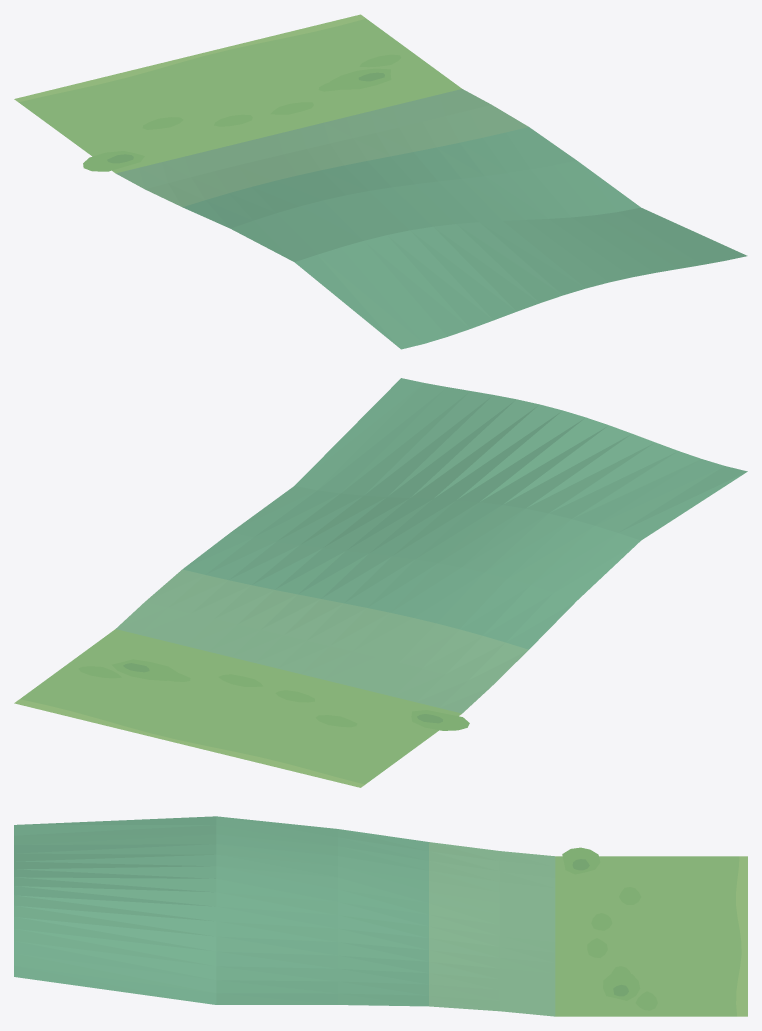
Rendered from Prairie_2.fbx.
3 renders of one model, top to bottom at view 1: azimuth 30°, elevation 25°; view 2: azimuth 150°, elevation 25°; view 3: azimuth 270°, elevation 25°, orthographic. The views are drawn at different scales.
Parts seen in each view (by area): view 1: Prairie_2; view 2: Prairie_2; view 3: Prairie_2.
Boxes of the visible parts, x1,y1,x2,y2 form: Prairie_2: (14,14,747,349); Prairie_2: (14,378,747,787); Prairie_2: (14,816,747,1016).
Size of the model in its own units: 7901 by 1019 by 14504.
1 material, 1 textured.
